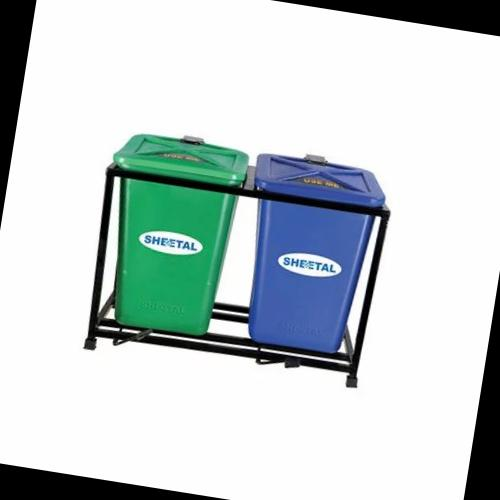garbage bin: (249, 200, 374, 353), (115, 180, 236, 336)
